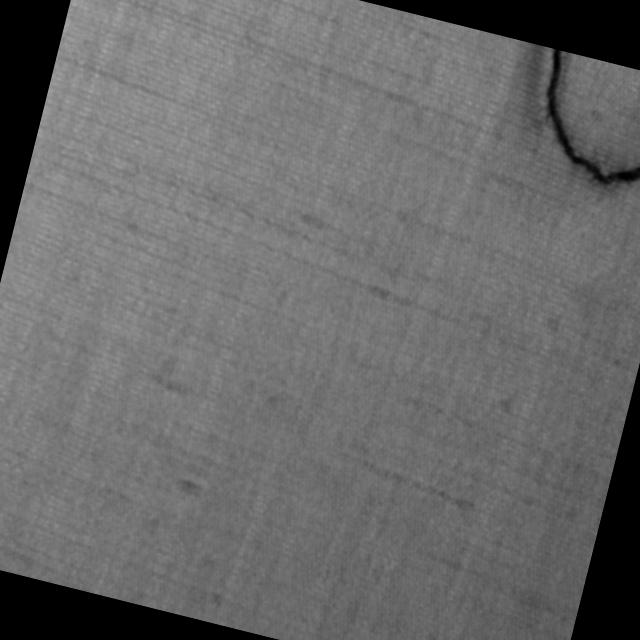objects: (509, 45, 640, 218)
